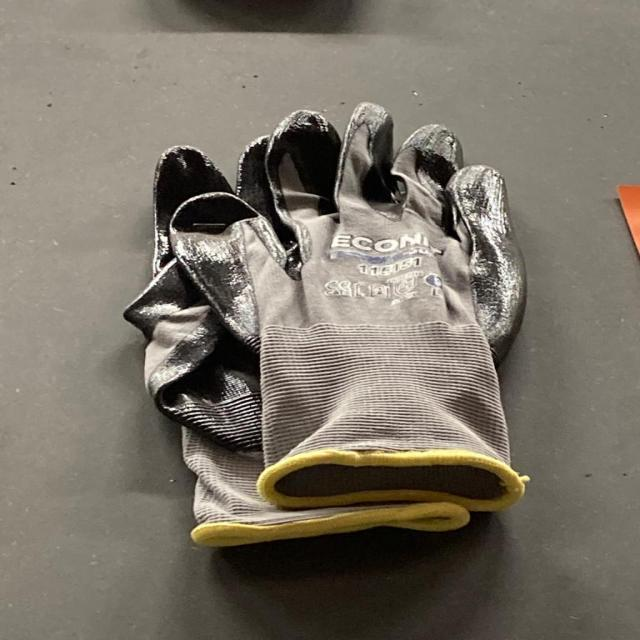gloves: (126, 100, 535, 546)
